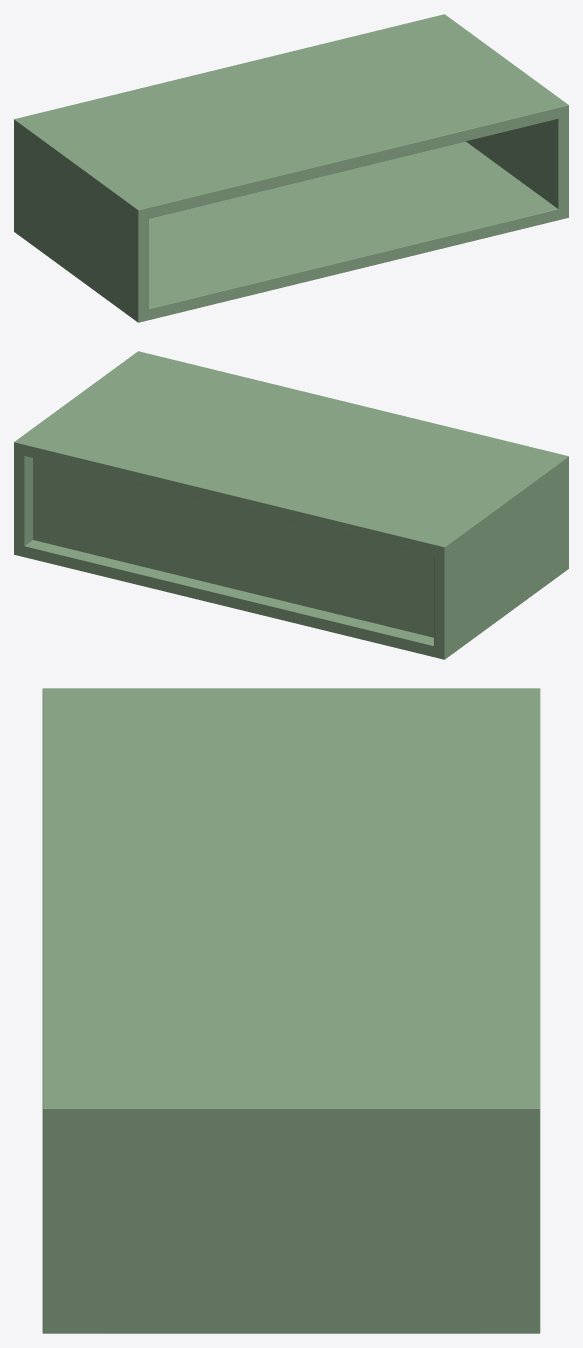
Rendered from MOD-2X05-A-B-SA.glb.
3 renders of one model, top to bottom at view 1: azimuth 30°, elevation 25°; view 2: azimuth 150°, elevation 25°; view 3: azimuth 270°, elevation 25°, orthographic. The views are drawn at different scales.
Bounding box in the file's own units: 720 × 180 × 360.
